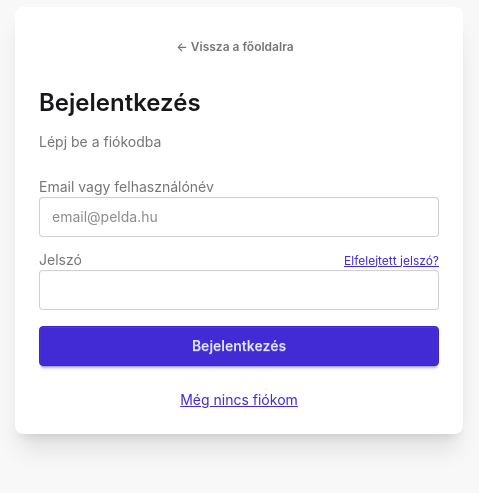
Test: Authentication › shows error message for invalid credentials
This screenshot has width=479, height=493.
Type "nonexistent@test.com" into the field with id "login" at (239,217), box 39,197 -> 439,237
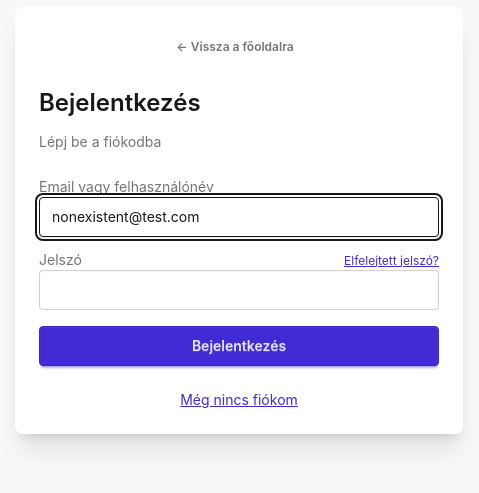
Type "WrongPassword123!" into the password field labelled "Jelszó" at (239,290), box 39,270 -> 439,310
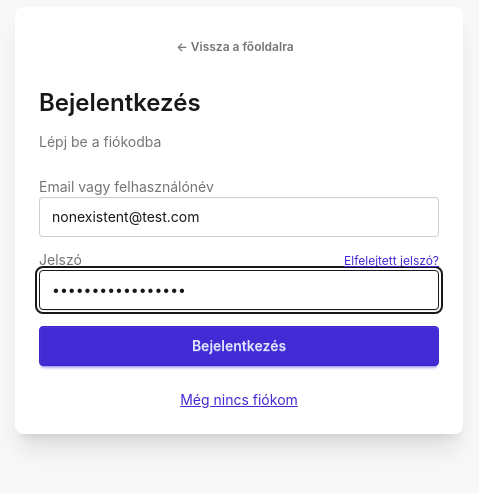
Click the button "Bejelentkezés" at (239,346), box 39,326 -> 439,366
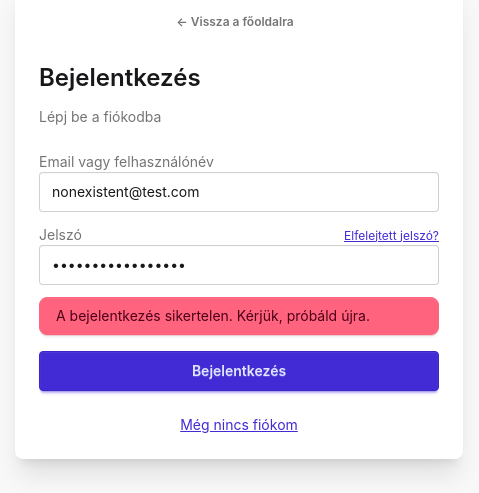
Result: the element with class "alert-error" is shown at 39,297 -> 439,335
